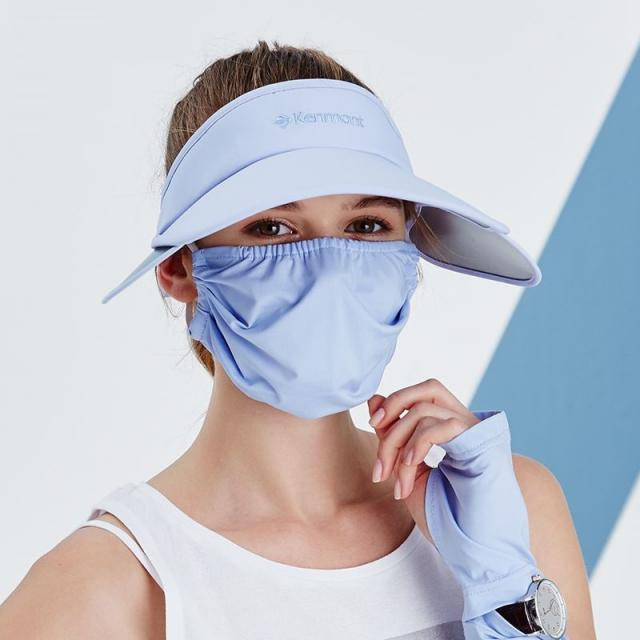mask: (198, 135, 414, 419)
